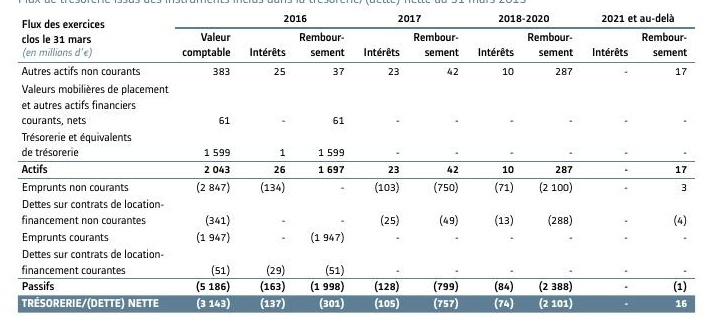table: (0, 0, 722, 331)
